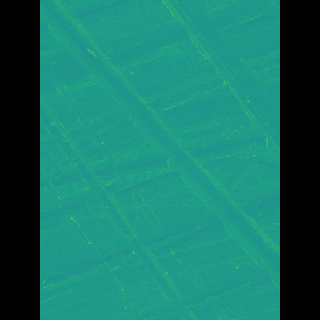Loch: (69, 0, 249, 291), (69, 91, 191, 319), (163, 0, 250, 153)
